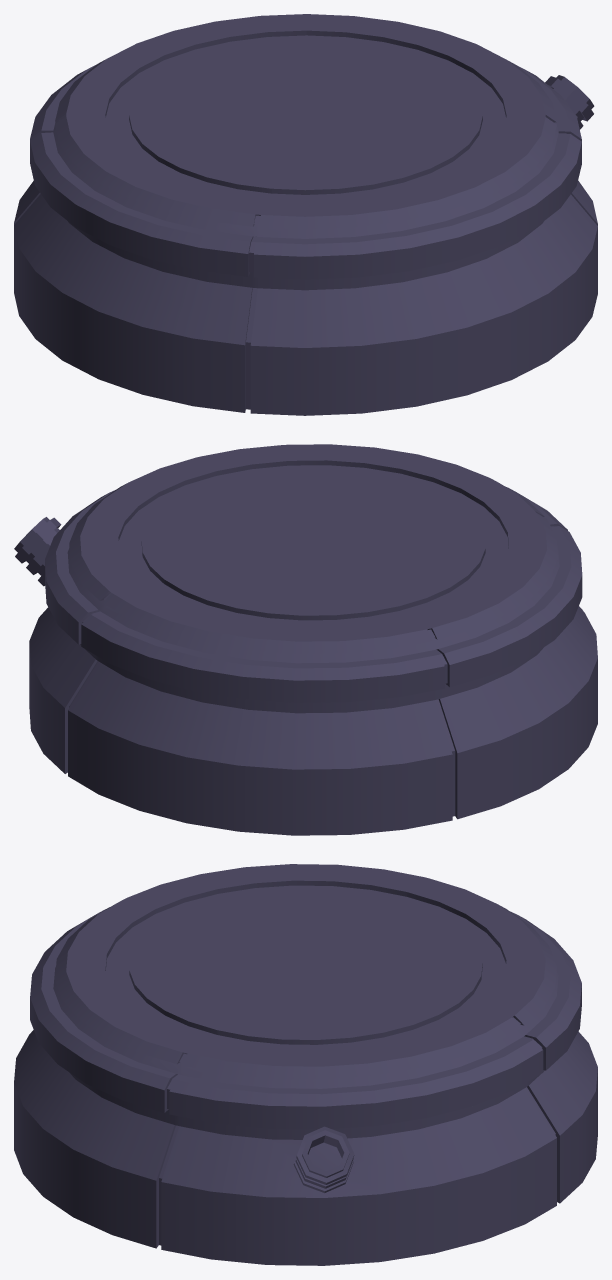
File: Platform.fbx
The picture shows the model from 3 angles, top to bottom: view 1: azimuth 30°, elevation 25°; view 2: azimuth 150°, elevation 25°; view 3: azimuth 270°, elevation 25°; orthographic projection. The views are drawn at different scales.
Parts seen in each view (by area): view 1: Platform v2.001; view 2: Platform v2.001; view 3: Platform v2.001.
Part boxes in pixels (x1,y1,x2,y2): Platform v2.001: (14,14,597,415); Platform v2.001: (14,444,597,835); Platform v2.001: (14,864,597,1265).
Size of the model in its own units: 158 by 49.07 by 147.
